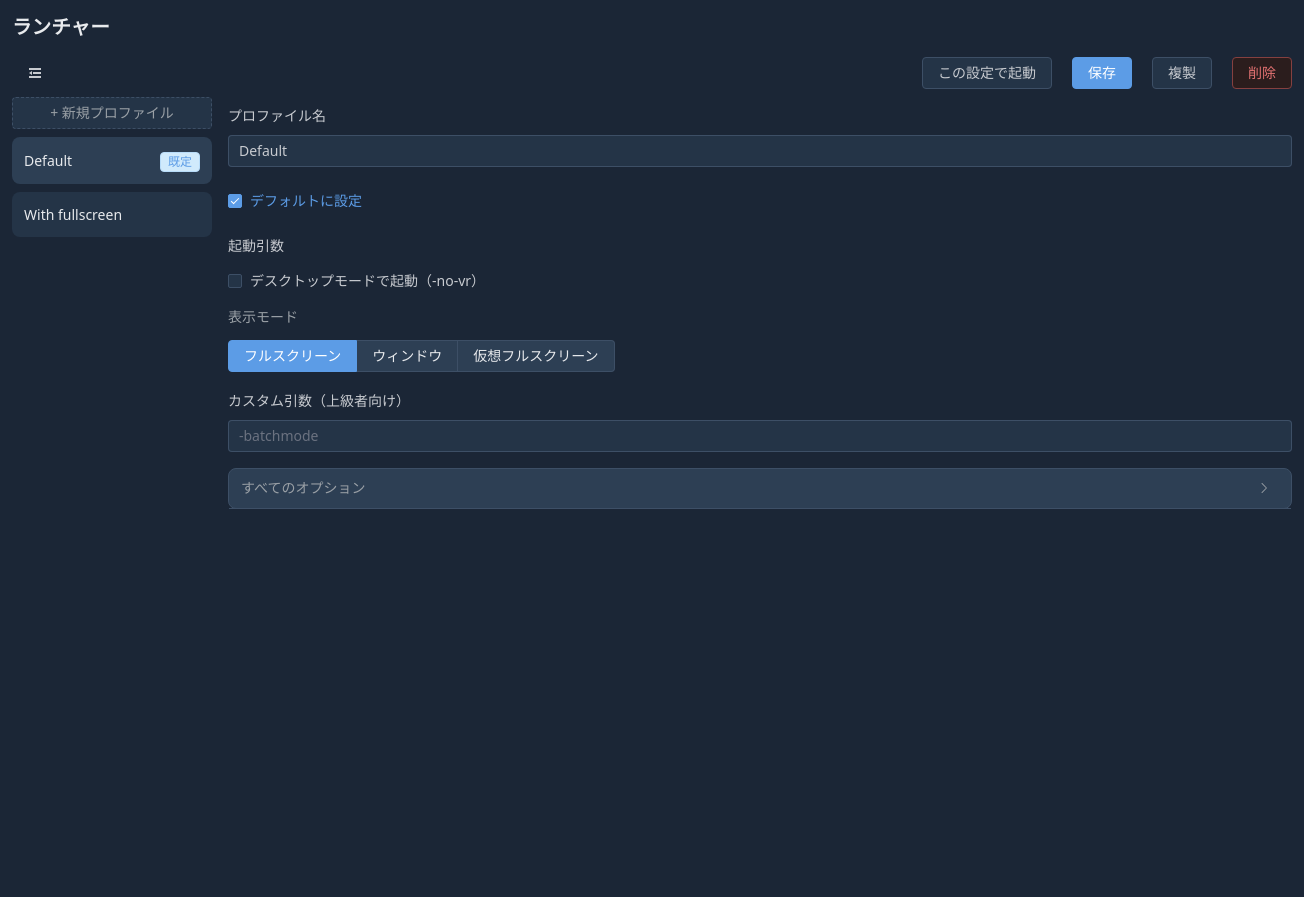
Test: LauncherView › parses arguments on profile select and reflects GUI state
The width and height of the screenshot is (1304, 897).
Click the element showing "With fullscreen" at point(112, 214), box [12,192,212,237]
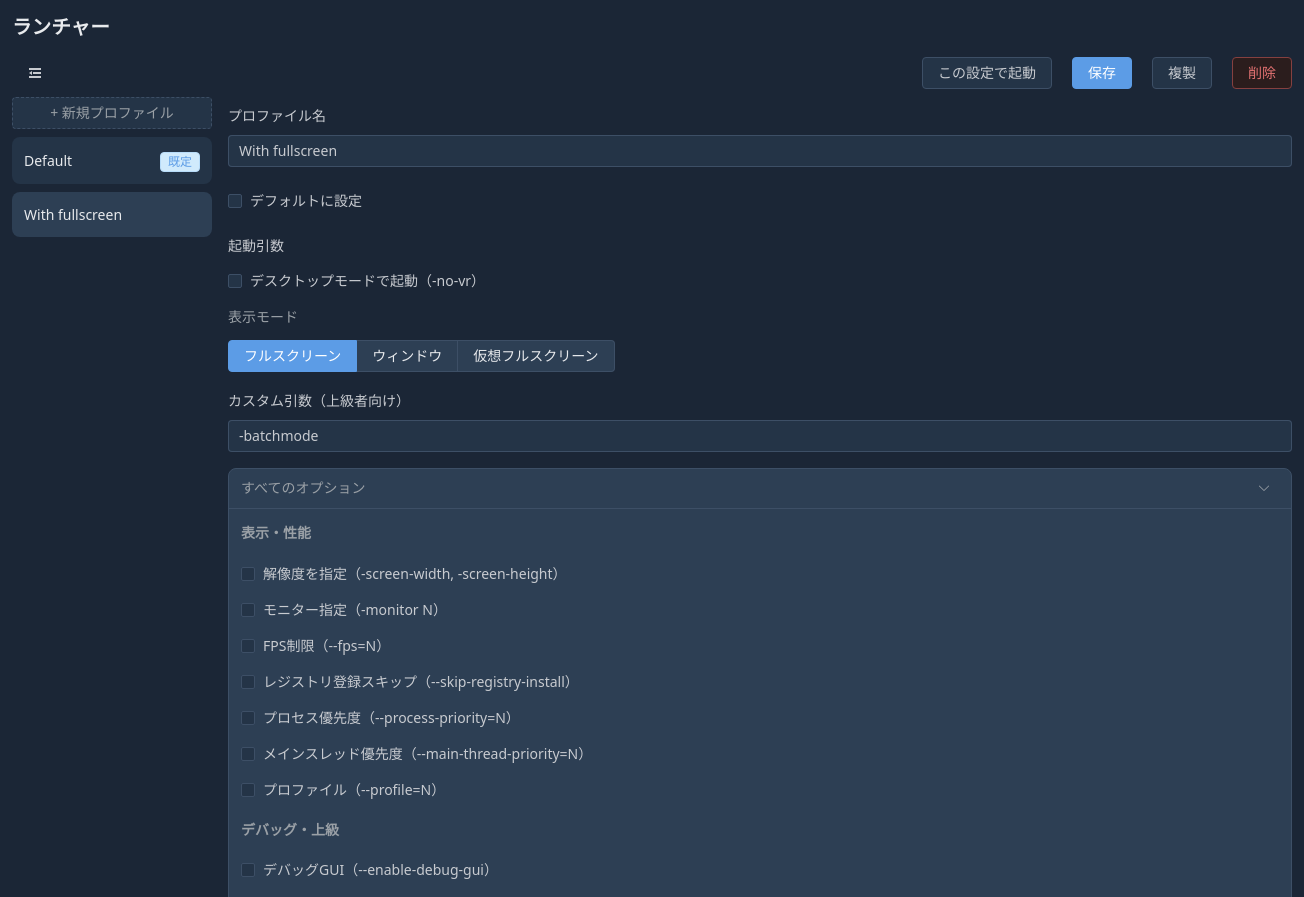
expect the radio button labelled "フルスクリーン" is checked: met, box [228,340,357,372]
expect the field with test id "custom-args-input" holds "-batchmode": met, box [239,421,1281,451]
